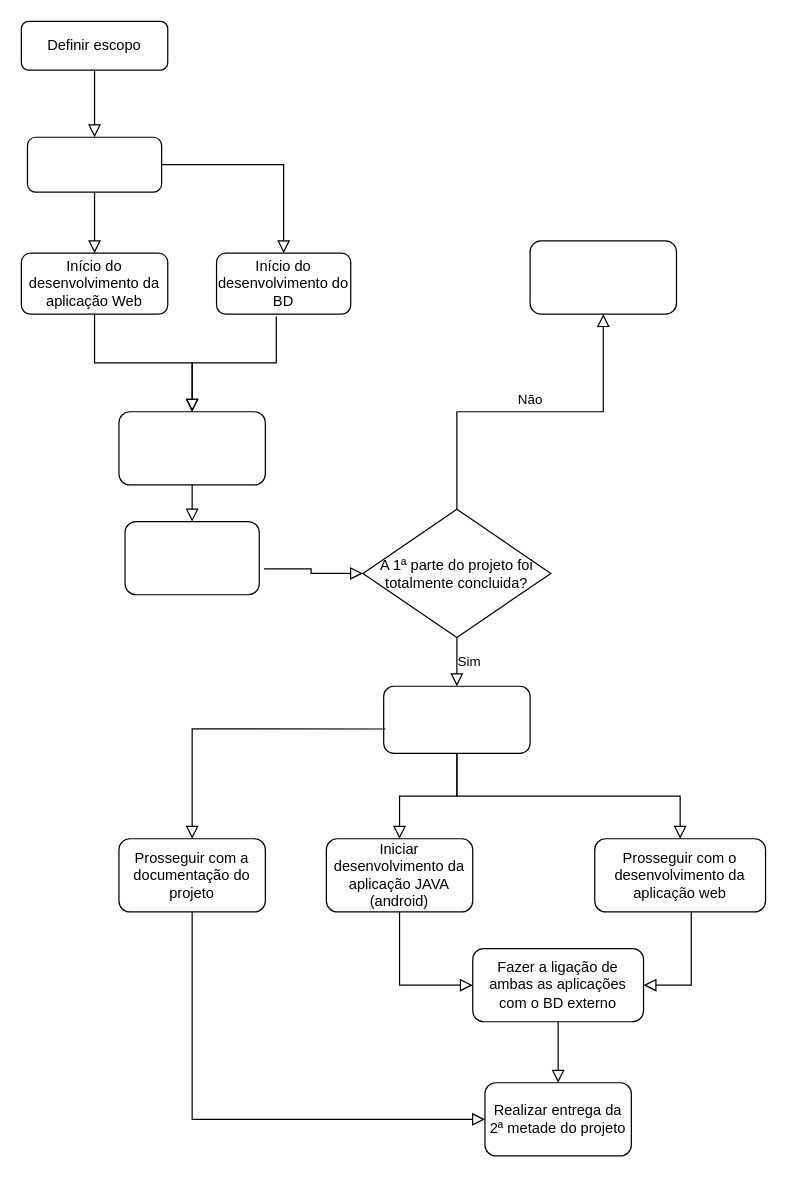
The diagram is 787 pixels wide and 1177 high, and some of its shapes have lost their labels. Each missing label, with the box of its shape:
Entrega da 1ª metade do projeto: (124, 520, 259, 595)
Finalizar as "lacunas" e prosseguir rapidamente com o desenvolvimento: (529, 240, 676, 314)
Inicio da documentação: (26, 136, 162, 192)
Ligação da aplicação web com o BD: (118, 411, 265, 485)
Mover o projeto e o BD para servidor externo (somee.com): (382, 685, 530, 753)
